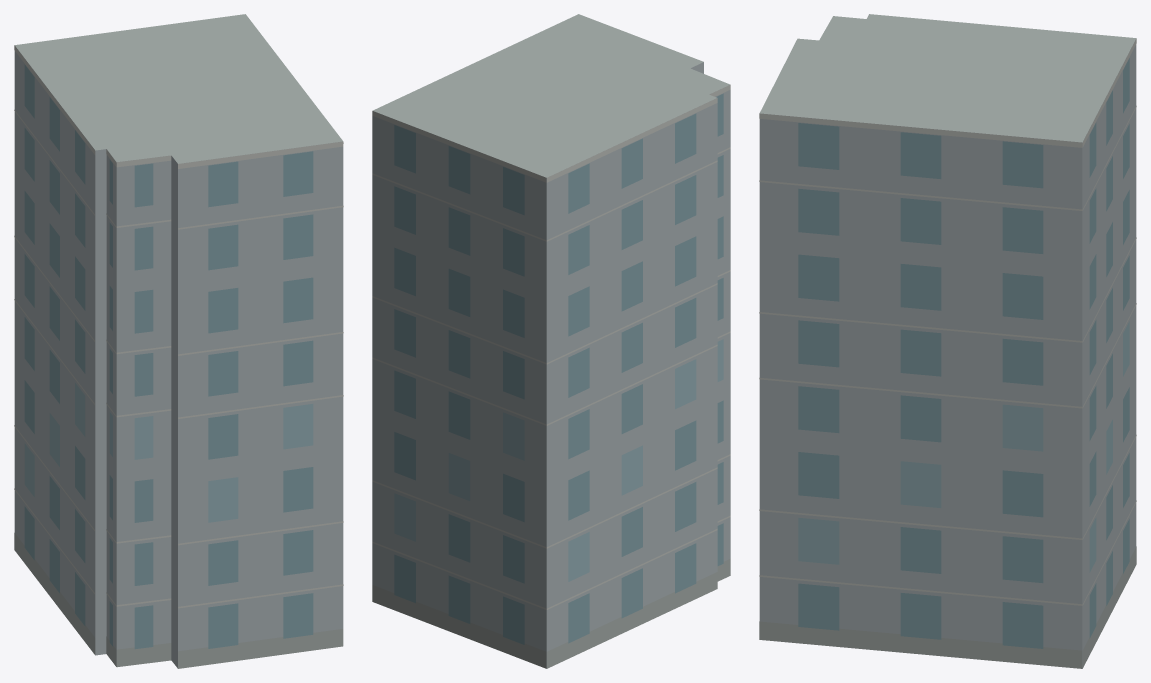
File: survey-upis-32664230.glb
3 renders of one model, left to right at view 1: azimuth 30°, elevation 25°; view 2: azimuth 150°, elevation 25°; view 3: azimuth 270°, elevation 25°, orthographic. The views are drawn at different scales.
Parts seen in each view (by area): view 1: survey-upis-32664230.tmp; view 2: survey-upis-32664230.tmp; view 3: survey-upis-32664230.tmp.
Boxes of the visible parts, box(x1,y1,x2,y2) form: survey-upis-32664230.tmp: box(14, 14, 343, 668); survey-upis-32664230.tmp: box(372, 14, 730, 668); survey-upis-32664230.tmp: box(759, 14, 1136, 668).
Bounding box in the file's own units: 12.48 × 23.8 × 15.47.
